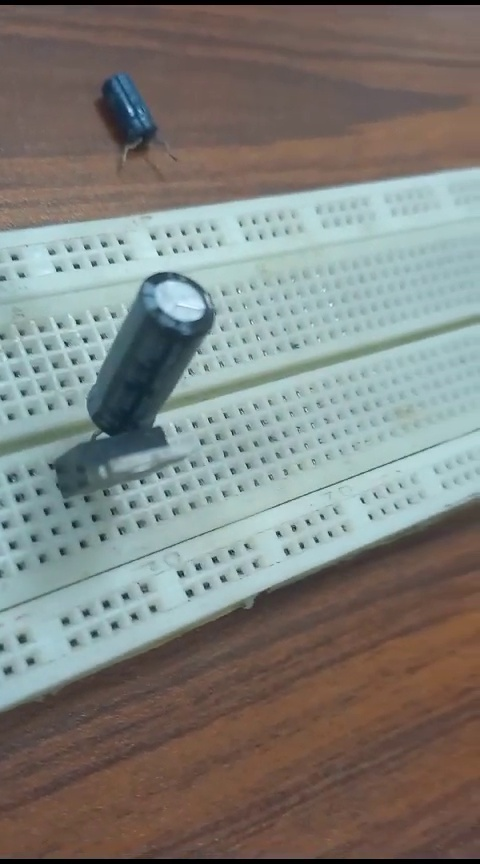capacitor: (84, 261, 216, 429), (86, 69, 191, 177)
voltage regulator: (51, 437, 190, 491)
